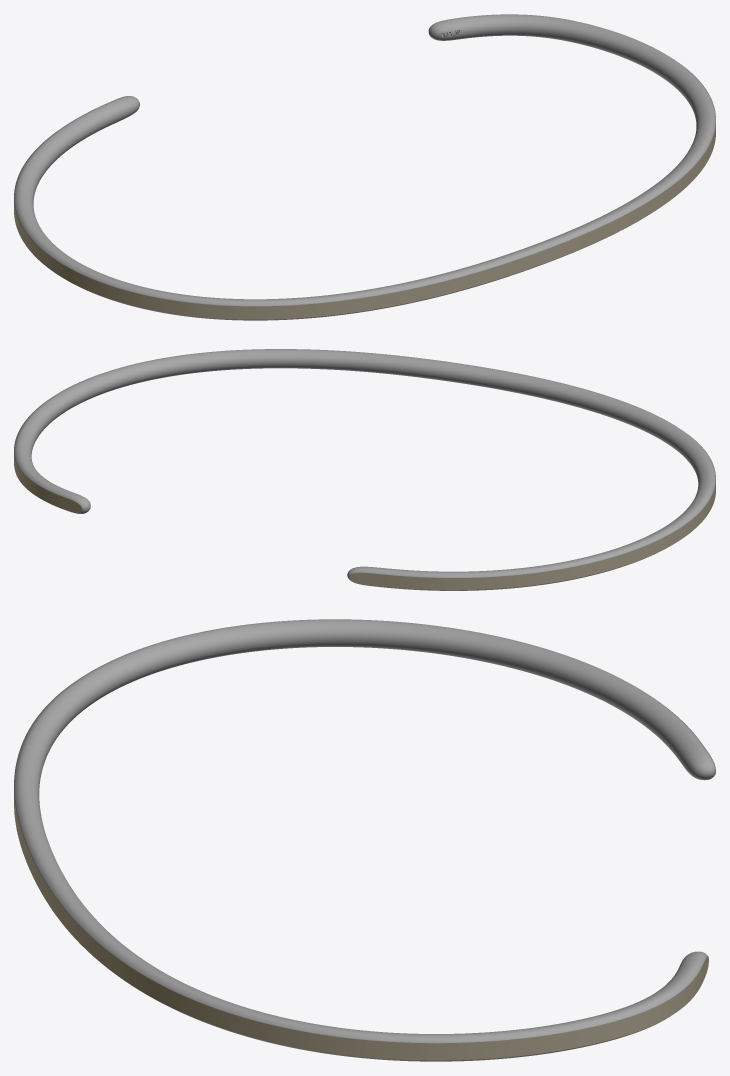
Rendered from light-silver.glb.
3 renders of one model, top to bottom at view 1: azimuth 30°, elevation 25°; view 2: azimuth 150°, elevation 25°; view 3: azimuth 270°, elevation 25°, orthographic. The views are drawn at different scales.
Visible parts, largest first — view 1: lightbody.003, lightomote.003; view 2: lightbody.003, lightomote.003; view 3: lightbody.003, lightomote.003.
Part boxes in pixels (box(x1,y1,x2,y2)): lightbody.003: box(14, 14, 715, 320); lightomote.003: box(14, 67, 715, 319); lightbody.003: box(14, 349, 715, 590); lightomote.003: box(14, 406, 715, 590); lightbody.003: box(14, 619, 715, 1061); lightomote.003: box(14, 689, 715, 1060).
Size of the model in its own units: 3.4 by 0.0938 by 2.39.
Materials: 2 (2 with a texture image).
